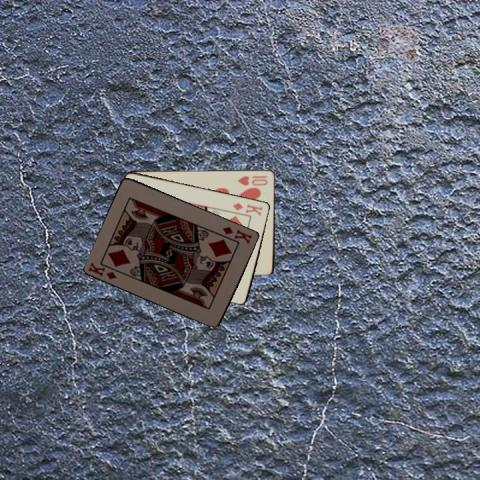10h: (235, 172, 269, 186)
Kd: (220, 223, 253, 245), (85, 259, 118, 281), (230, 199, 264, 217)
